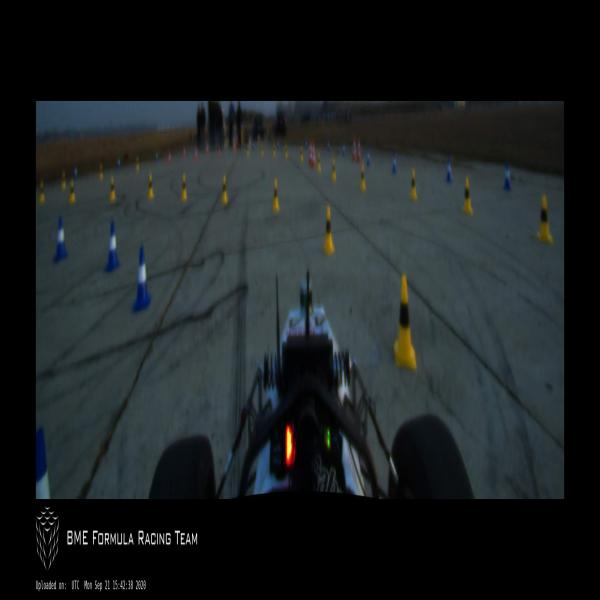blue_cone: (132, 247, 151, 310), (36, 426, 51, 499), (103, 218, 121, 274), (52, 217, 69, 262), (502, 161, 511, 192), (445, 156, 452, 184), (392, 152, 397, 174), (366, 147, 370, 167), (73, 166, 78, 180), (342, 143, 346, 157), (155, 151, 159, 163), (326, 140, 329, 153), (117, 158, 120, 170), (252, 142, 254, 150), (277, 140, 279, 148)
large_orange_cone: (352, 134, 357, 163), (357, 137, 362, 163), (311, 139, 315, 168), (308, 138, 312, 164)
orange_cone: (194, 148, 198, 161), (168, 150, 171, 164), (183, 145, 186, 159), (233, 137, 236, 151), (205, 142, 208, 154), (218, 146, 220, 159)
yellow_cone: (392, 274, 418, 370), (536, 192, 553, 244), (322, 205, 335, 254), (463, 177, 473, 214), (409, 169, 418, 202), (272, 177, 280, 212), (221, 174, 228, 205), (359, 163, 366, 192), (69, 179, 76, 205), (109, 176, 116, 202), (331, 157, 338, 182), (181, 173, 187, 201), (38, 180, 45, 204), (148, 172, 154, 200), (60, 172, 67, 192), (98, 163, 104, 182), (317, 153, 321, 173), (299, 145, 304, 161), (135, 157, 140, 171), (284, 143, 288, 158), (272, 142, 276, 156), (260, 143, 264, 156), (247, 143, 249, 156)
